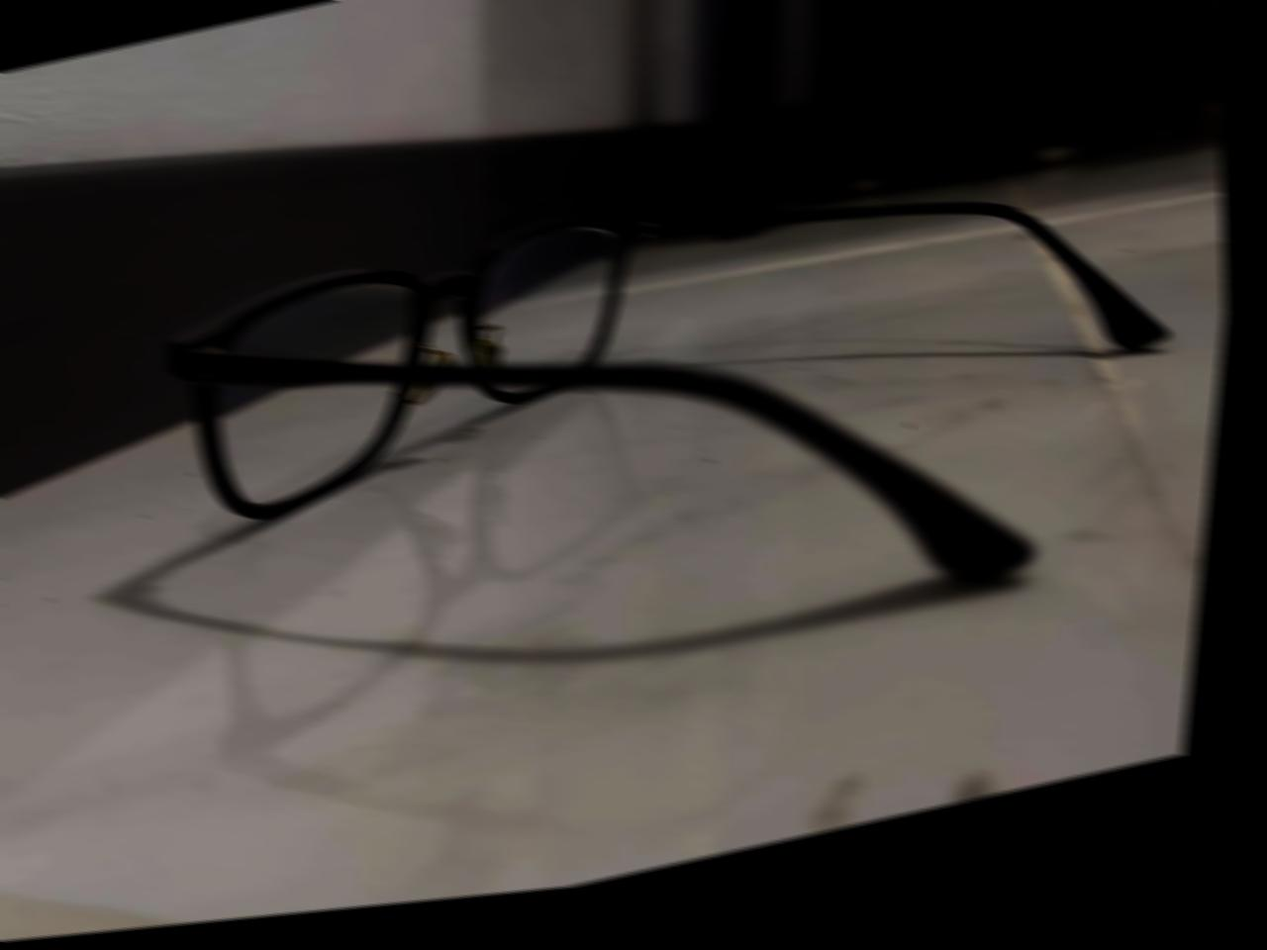glasses: (109, 61, 1247, 791)
